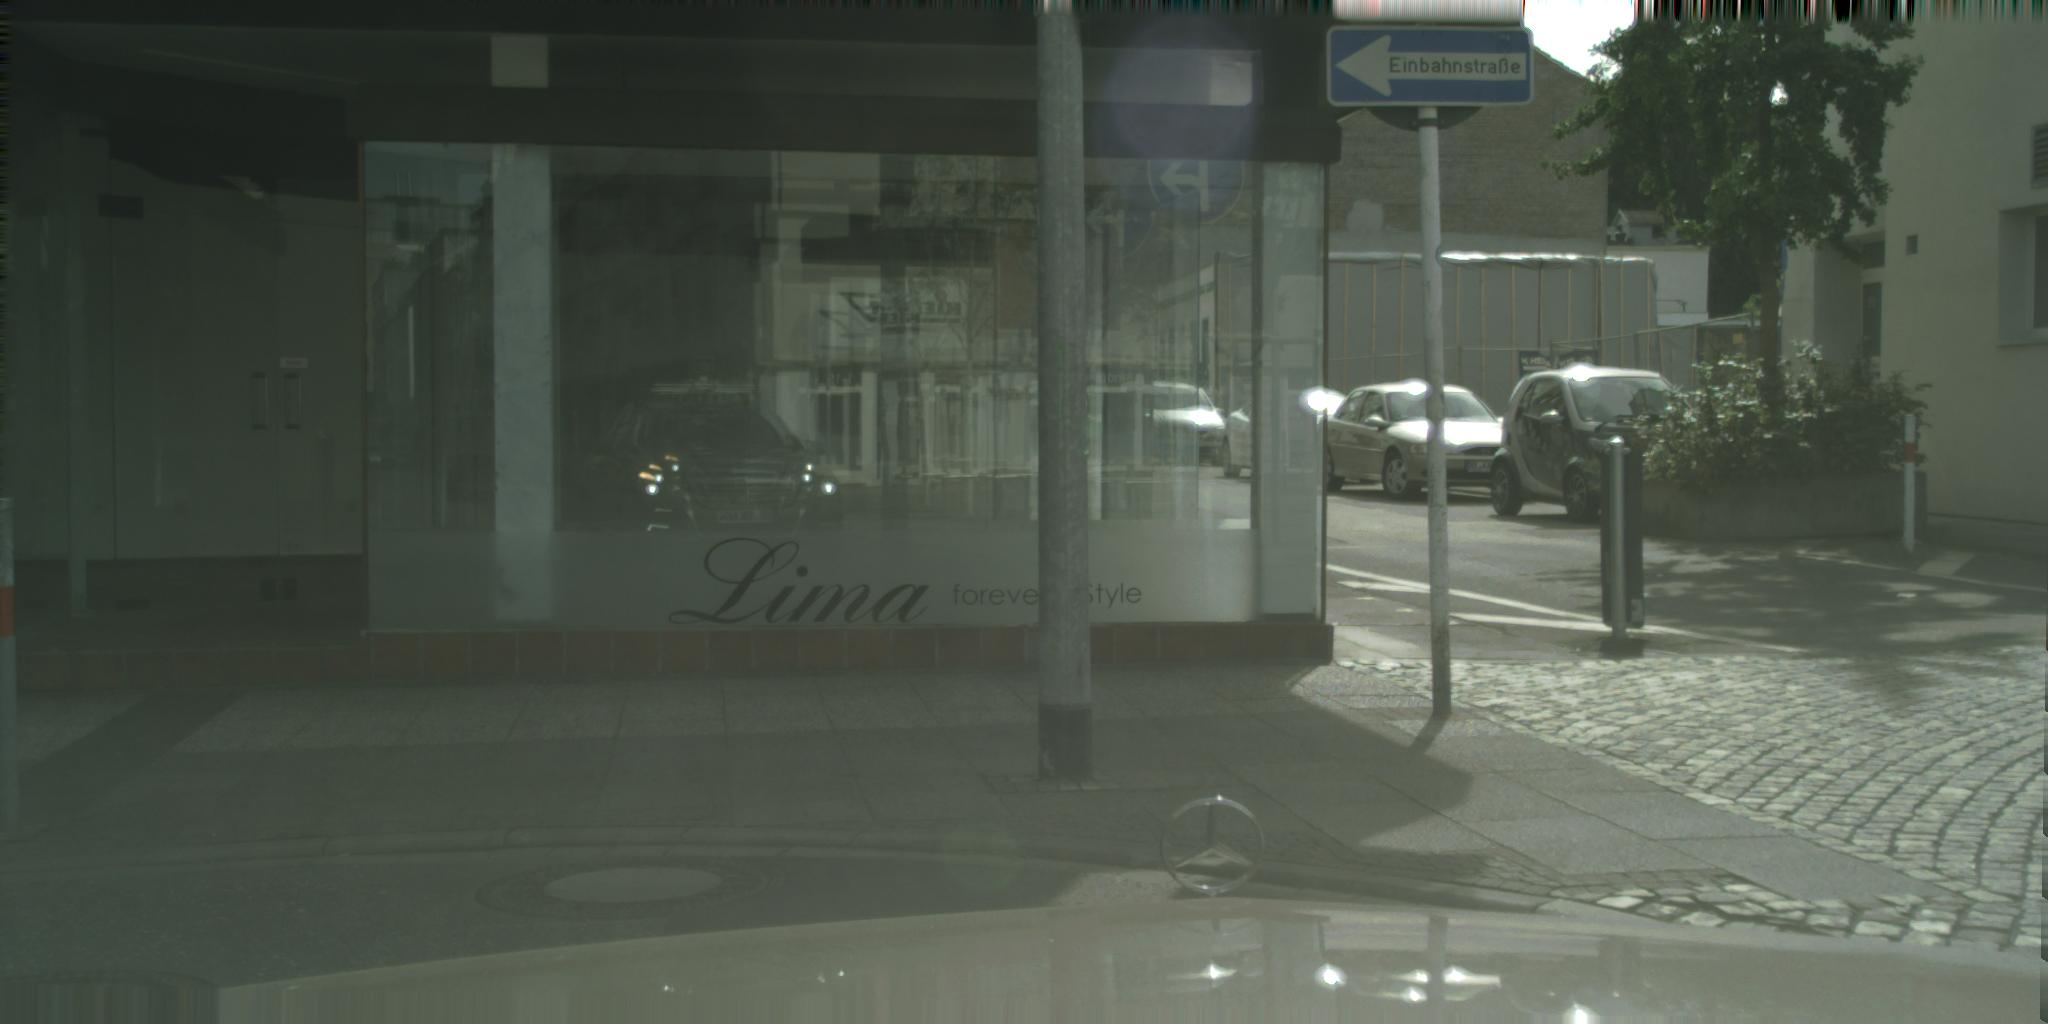car: (1486, 367, 1697, 522), (1310, 381, 1518, 502), (1298, 389, 1351, 452)
